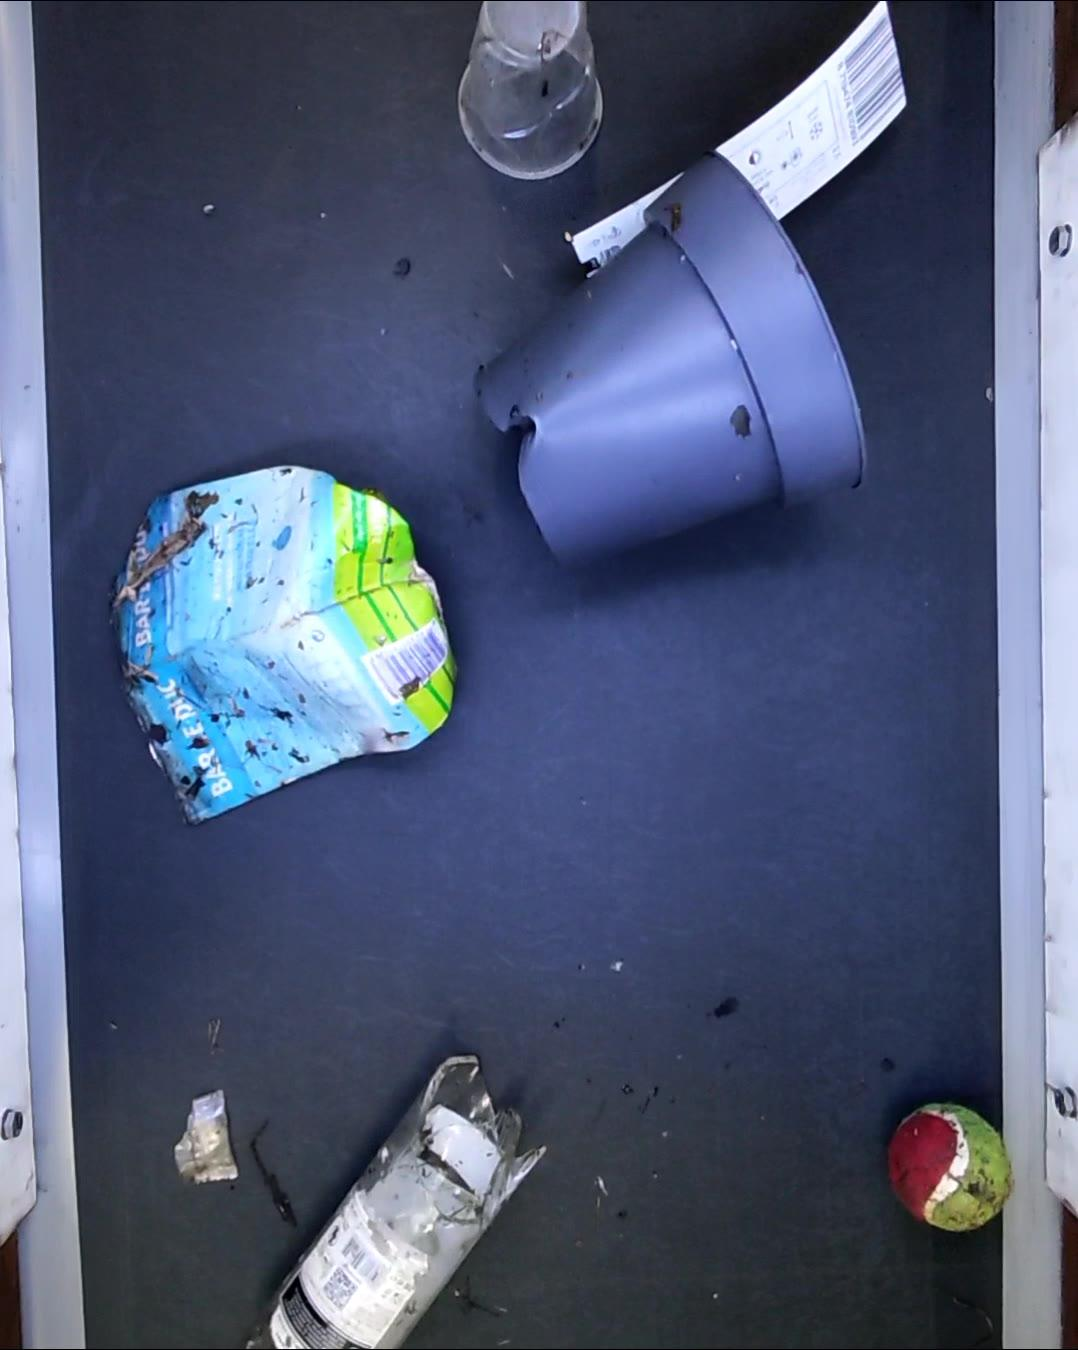Plastic folies of stukken daarvan 2.5- 50 cm: (177, 1093, 234, 1188)
